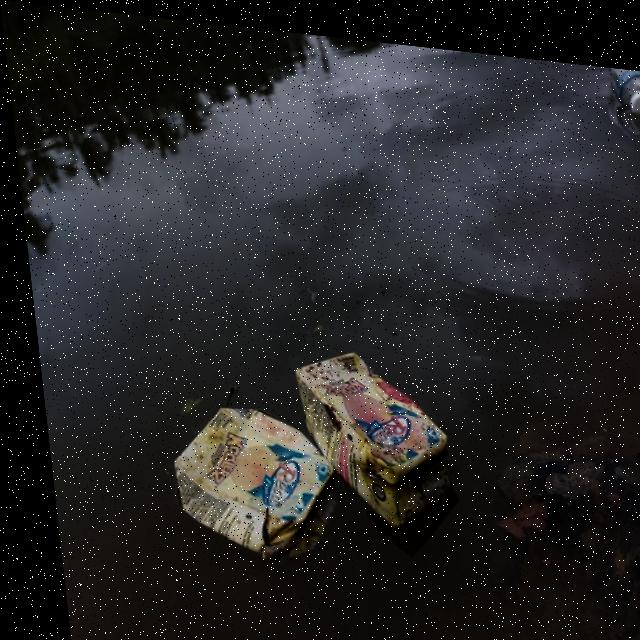paper: (279, 341, 452, 514), (152, 397, 320, 557)
